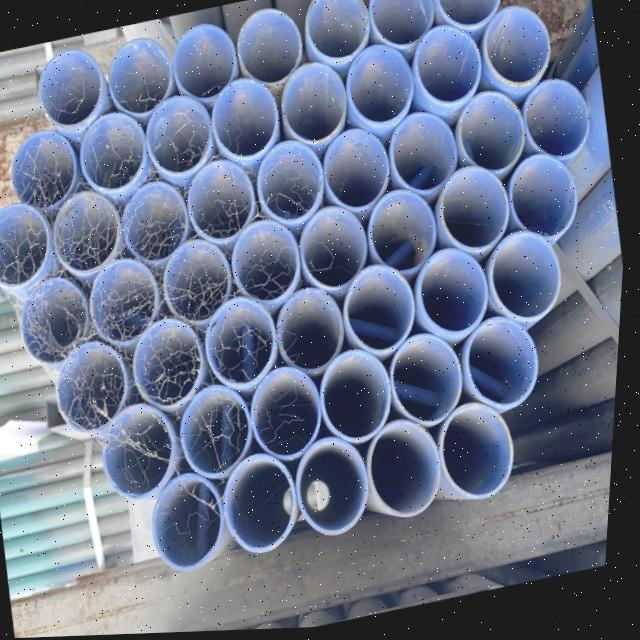pipe: (89, 404, 178, 505), (440, 401, 522, 506), (369, 419, 447, 527), (226, 454, 306, 559), (150, 473, 232, 575), (389, 330, 467, 432), (466, 315, 544, 417), (13, 273, 98, 366), (486, 232, 567, 329), (500, 153, 583, 247), (299, 437, 374, 541), (132, 316, 210, 416), (342, 263, 421, 360), (52, 339, 130, 437), (251, 369, 326, 469), (320, 348, 395, 448), (436, 164, 514, 259), (416, 246, 496, 338), (203, 297, 278, 395), (177, 387, 254, 482), (454, 90, 531, 179), (89, 256, 162, 349), (275, 286, 350, 376), (340, 41, 414, 131), (164, 236, 236, 328), (297, 207, 371, 296), (365, 190, 439, 279), (184, 157, 257, 246), (48, 191, 121, 279), (318, 128, 391, 216), (229, 220, 303, 306), (387, 114, 462, 198), (276, 62, 350, 147), (256, 140, 329, 226), (408, 27, 483, 110), (209, 76, 279, 164), (520, 78, 594, 160), (119, 177, 186, 266), (6, 128, 75, 214), (140, 92, 209, 176), (76, 112, 145, 196), (481, 11, 552, 91), (106, 35, 174, 117), (36, 48, 103, 130), (233, 9, 301, 88), (169, 22, 235, 103), (0, 202, 49, 295), (301, 0, 369, 64), (367, 0, 438, 51), (432, 0, 502, 32)
